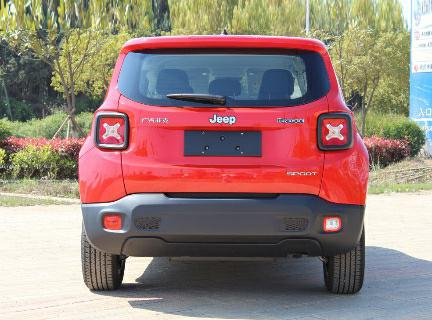Jeep-自由侠: (71, 34, 378, 300)
